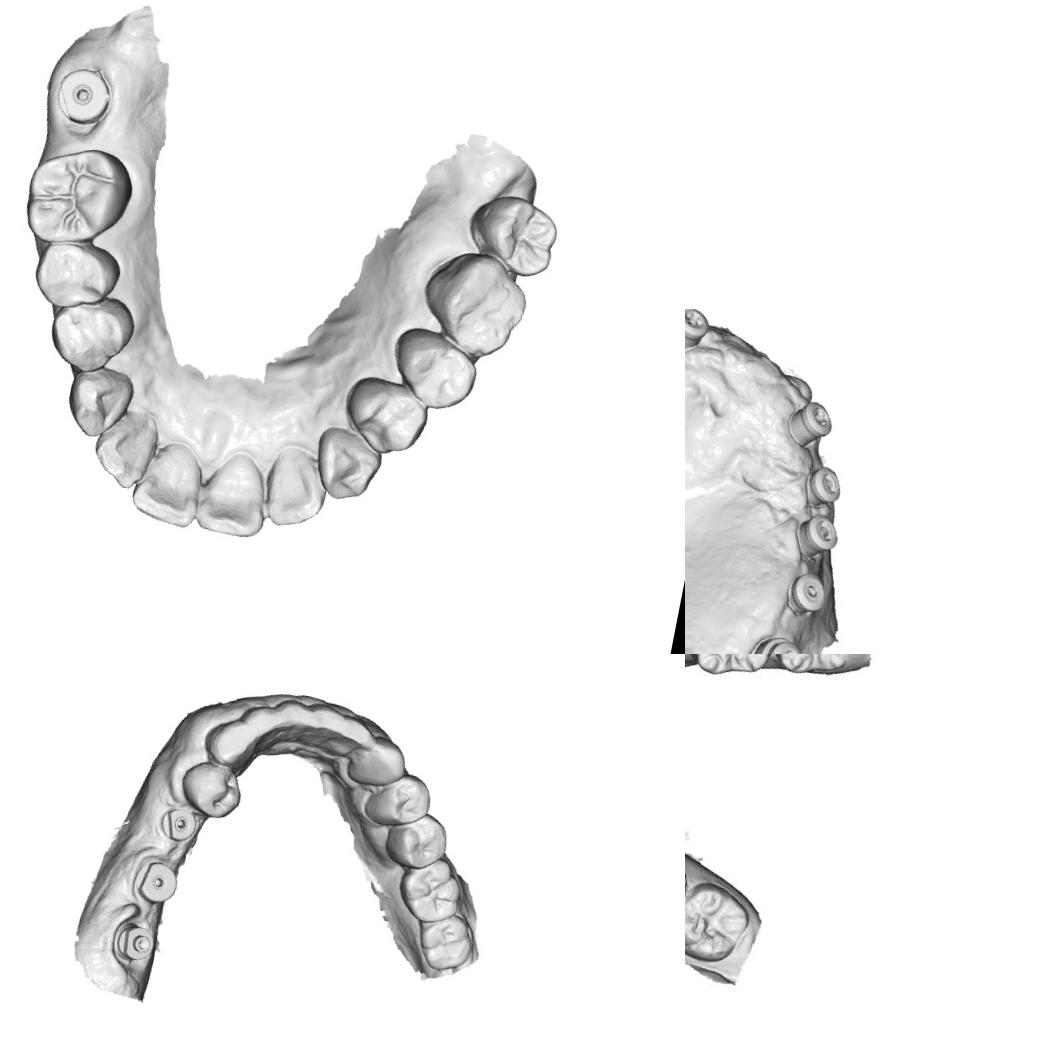canine: (306, 424, 389, 508), (60, 362, 138, 444), (204, 714, 259, 774), (352, 732, 410, 787)
implant: (48, 61, 117, 128), (108, 917, 159, 967), (785, 567, 829, 621), (789, 396, 837, 444), (134, 858, 182, 905), (156, 802, 199, 846)
implant_minus: (792, 509, 842, 563), (800, 460, 847, 504), (748, 631, 805, 654)
implant_plus: (685, 304, 710, 350)
incisor: (188, 452, 276, 543), (126, 436, 205, 530), (257, 440, 333, 534), (86, 408, 162, 495), (337, 710, 377, 760), (306, 704, 346, 748), (272, 695, 314, 734), (242, 706, 279, 736)
molar: (412, 242, 536, 368), (16, 136, 141, 258), (458, 185, 564, 284), (685, 875, 756, 967), (392, 851, 467, 929), (410, 909, 478, 976), (686, 654, 782, 682), (770, 654, 859, 680)
premolar: (381, 322, 483, 417), (41, 289, 140, 381), (336, 370, 430, 463), (26, 232, 125, 318), (175, 758, 246, 822), (386, 808, 452, 873), (368, 769, 435, 828)
